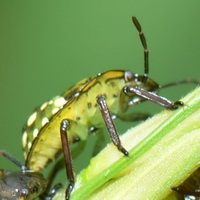insect: (22, 17, 199, 199), (68, 124, 114, 181), (111, 98, 168, 139)
